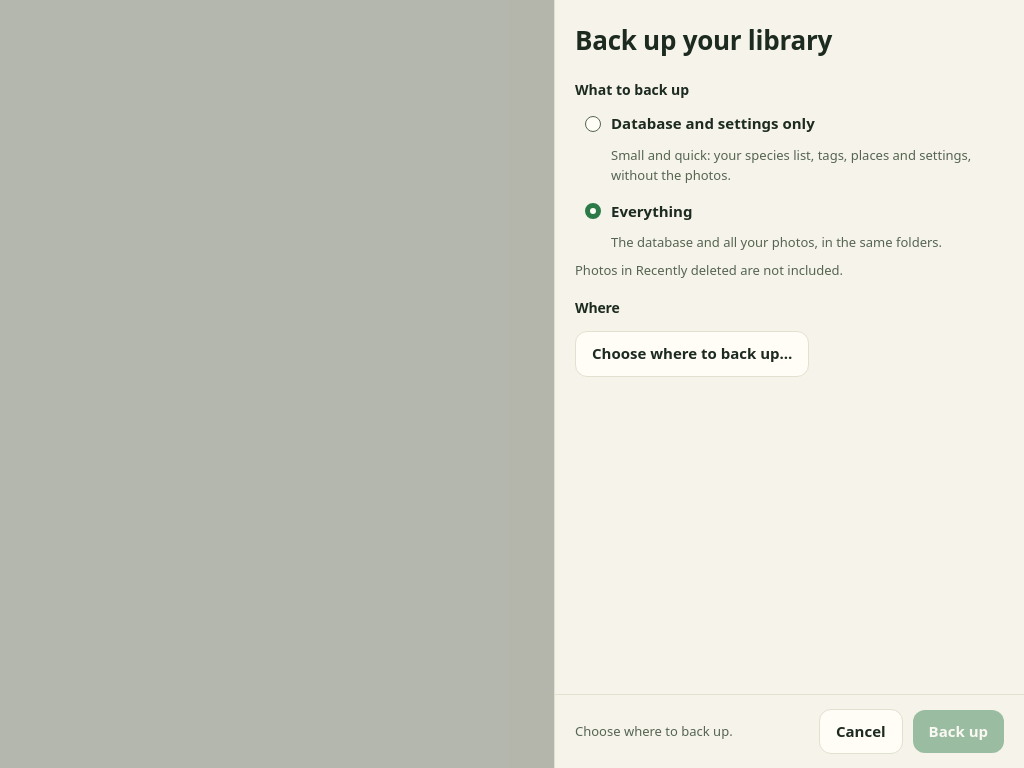
a chosen folder is checked: its path, Change…, the name it creates, the space line; Back up becomes active
This screenshot has width=1024, height=768.
Step 1. Click the button "Choose where to back up…" → (692, 354), box [575,331,809,377]
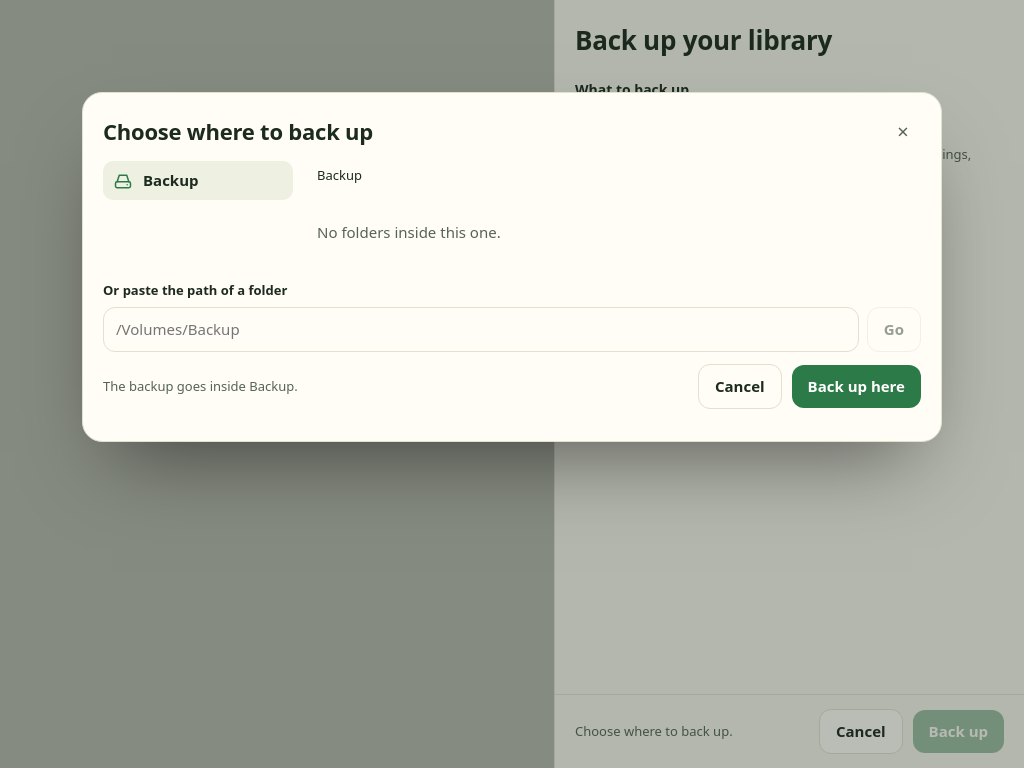
Step 2. Click the button "Back up here" → (856, 387), box [792,365,921,408]
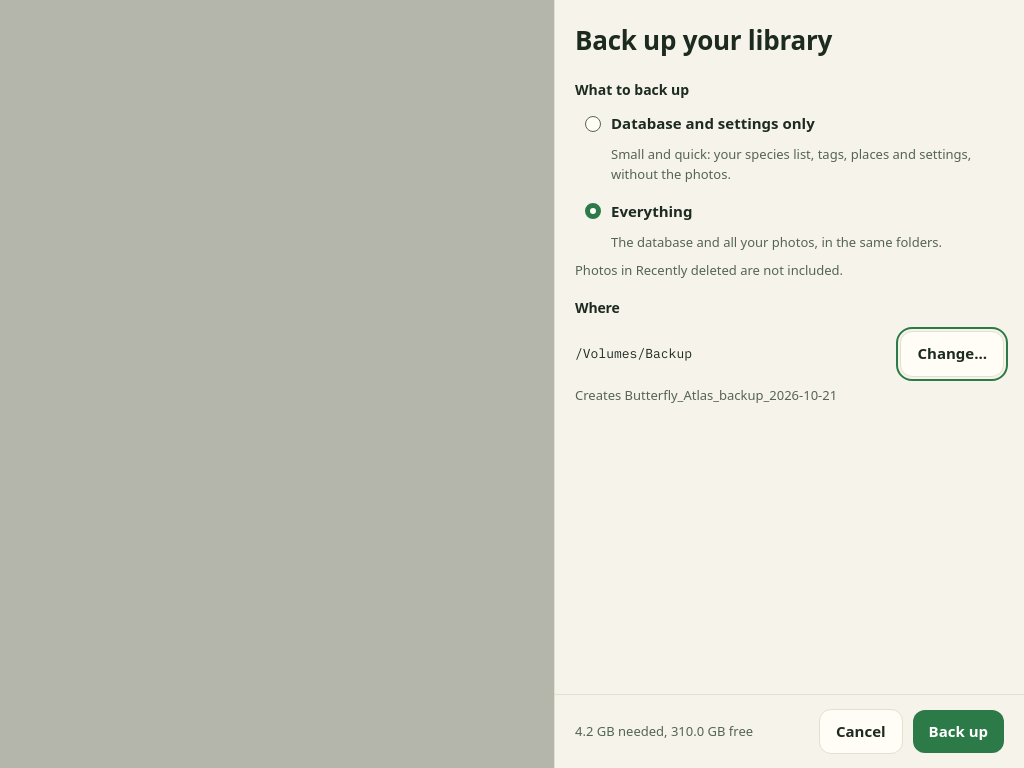
Expected: the text "/Volumes/Backup" is shown, [575,345,692,362]
Expected: the text "Creates Butterfly_Atlas_backup_2026-10-21" is shown, [575,386,837,404]
Expected: the text "4.2 GB needed, 310.0 GB free" is shown, [575,722,753,740]
